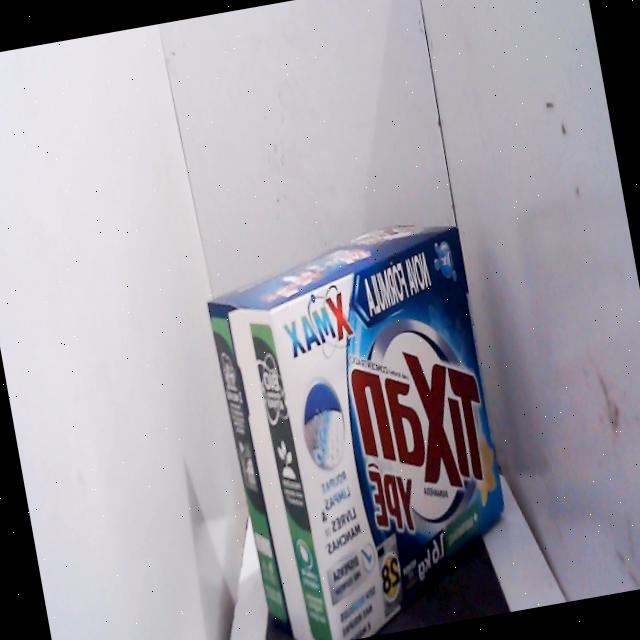papel: (193, 199, 532, 640)
